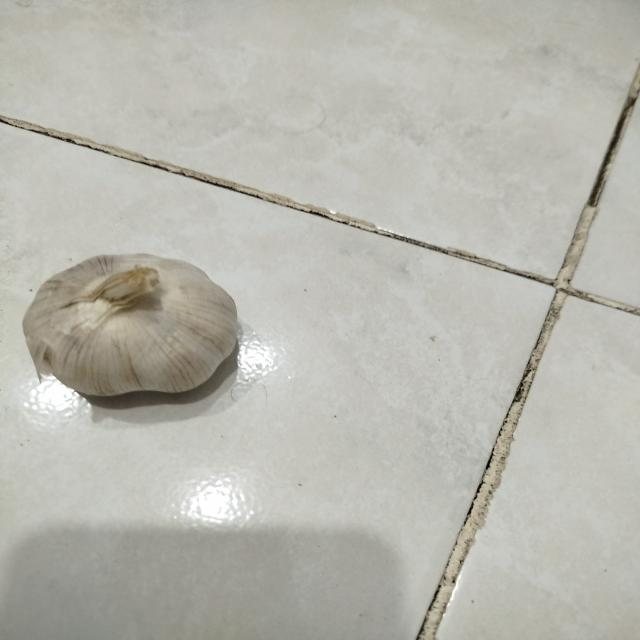garlic: (22, 252, 239, 398)
